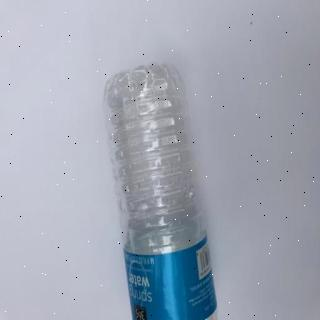Plastic-bottle: (103, 61, 221, 320)
